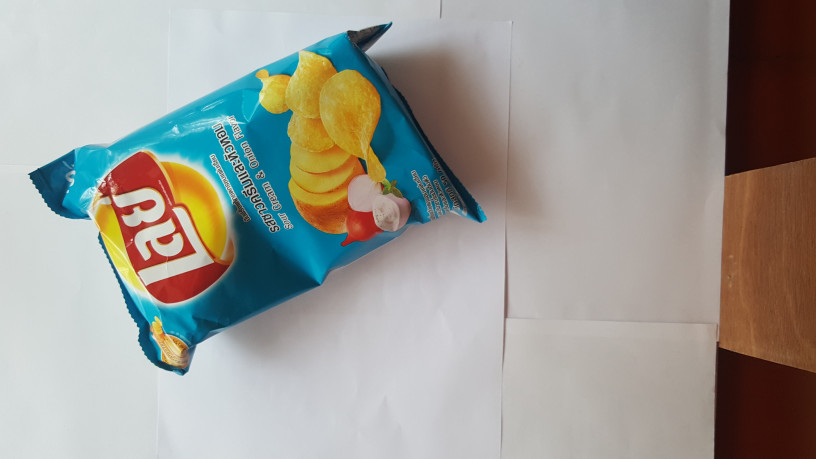lays-onion: (21, 17, 493, 383)
